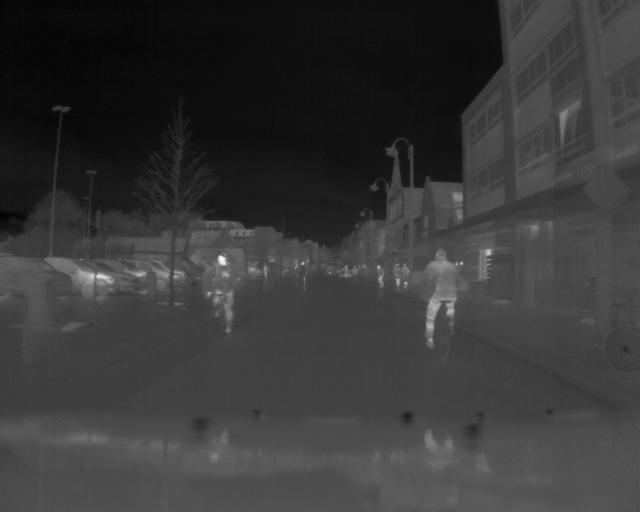car: (1, 255, 74, 302), (118, 258, 171, 290)
person: (424, 248, 458, 351), (205, 251, 240, 338), (394, 260, 403, 293), (375, 263, 385, 290)
